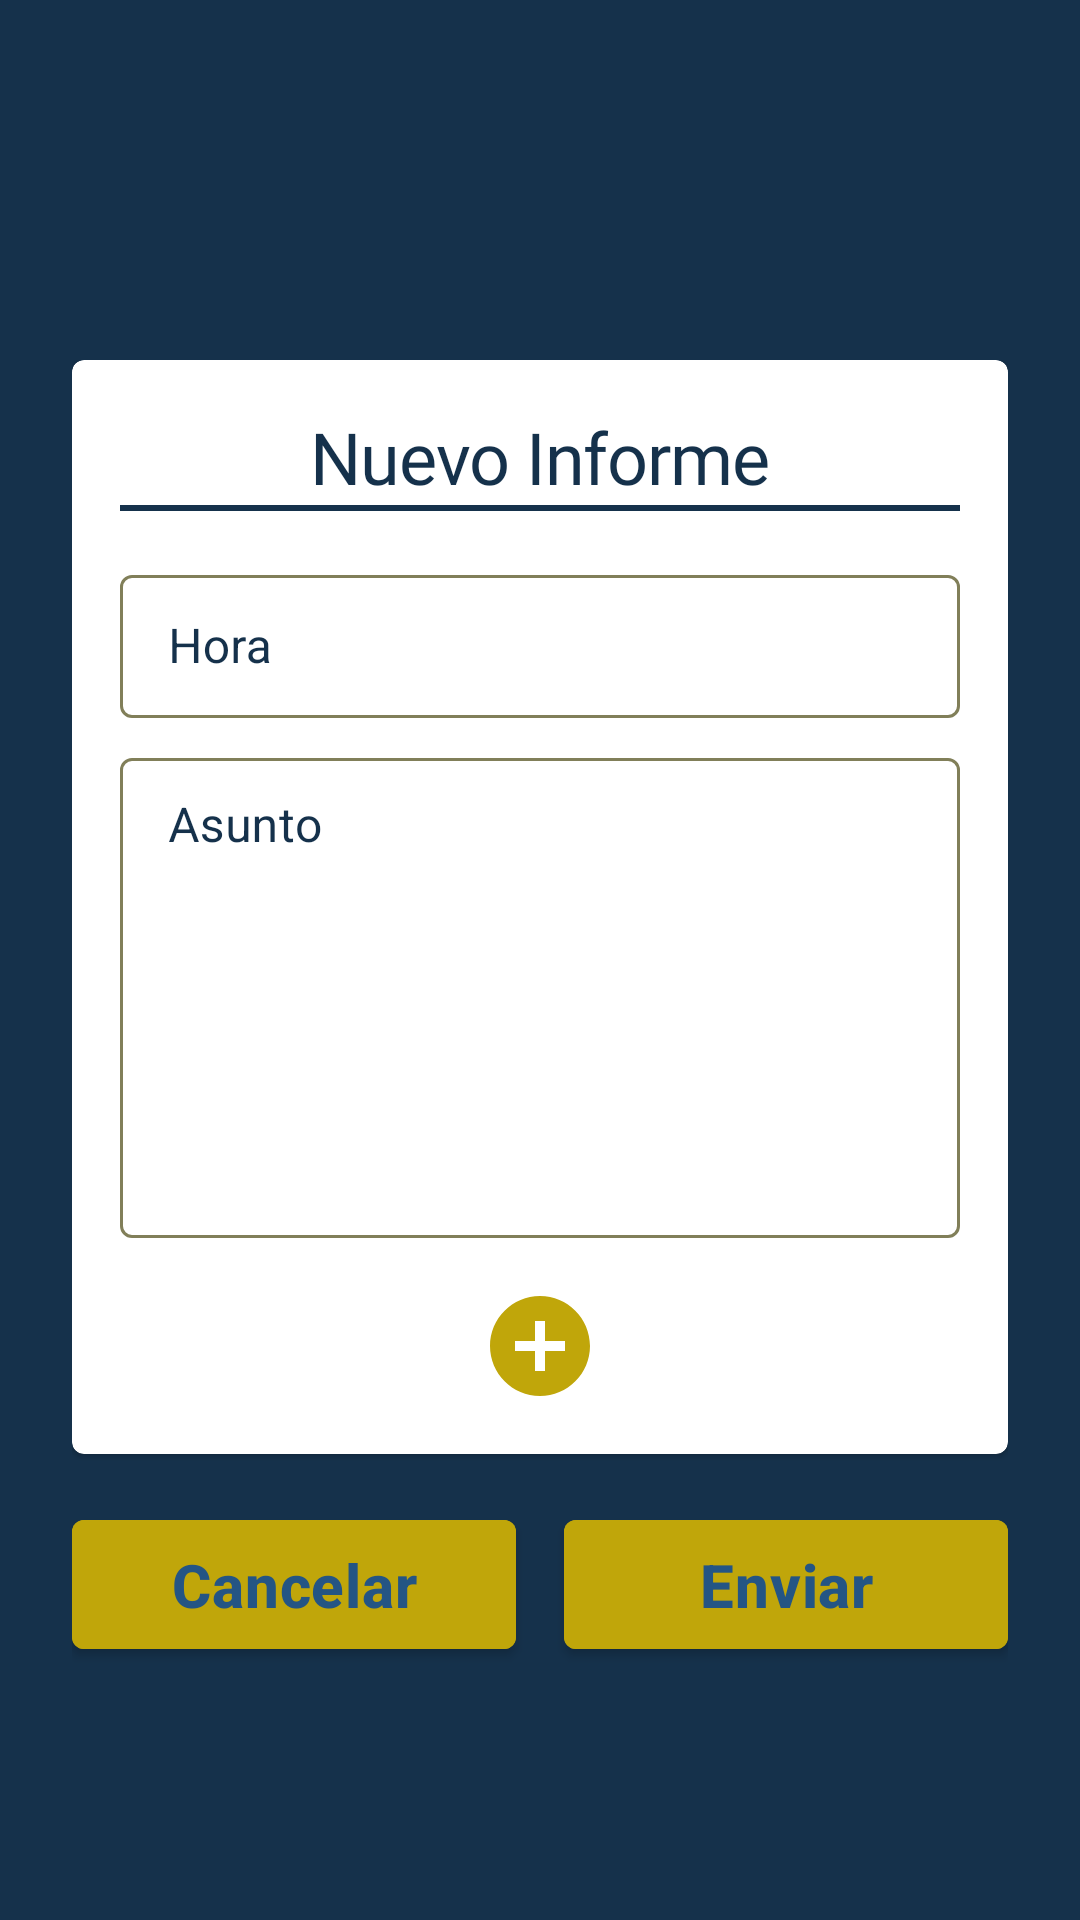

Where icons sit on this 1080×1920 app screen, as (x1, y1, x2, y2):
add circle: (490, 1296, 590, 1396)
